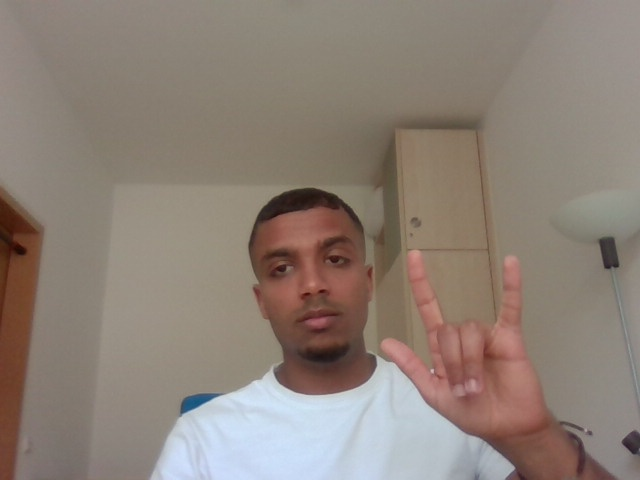absolutely: (375, 245, 569, 441)
